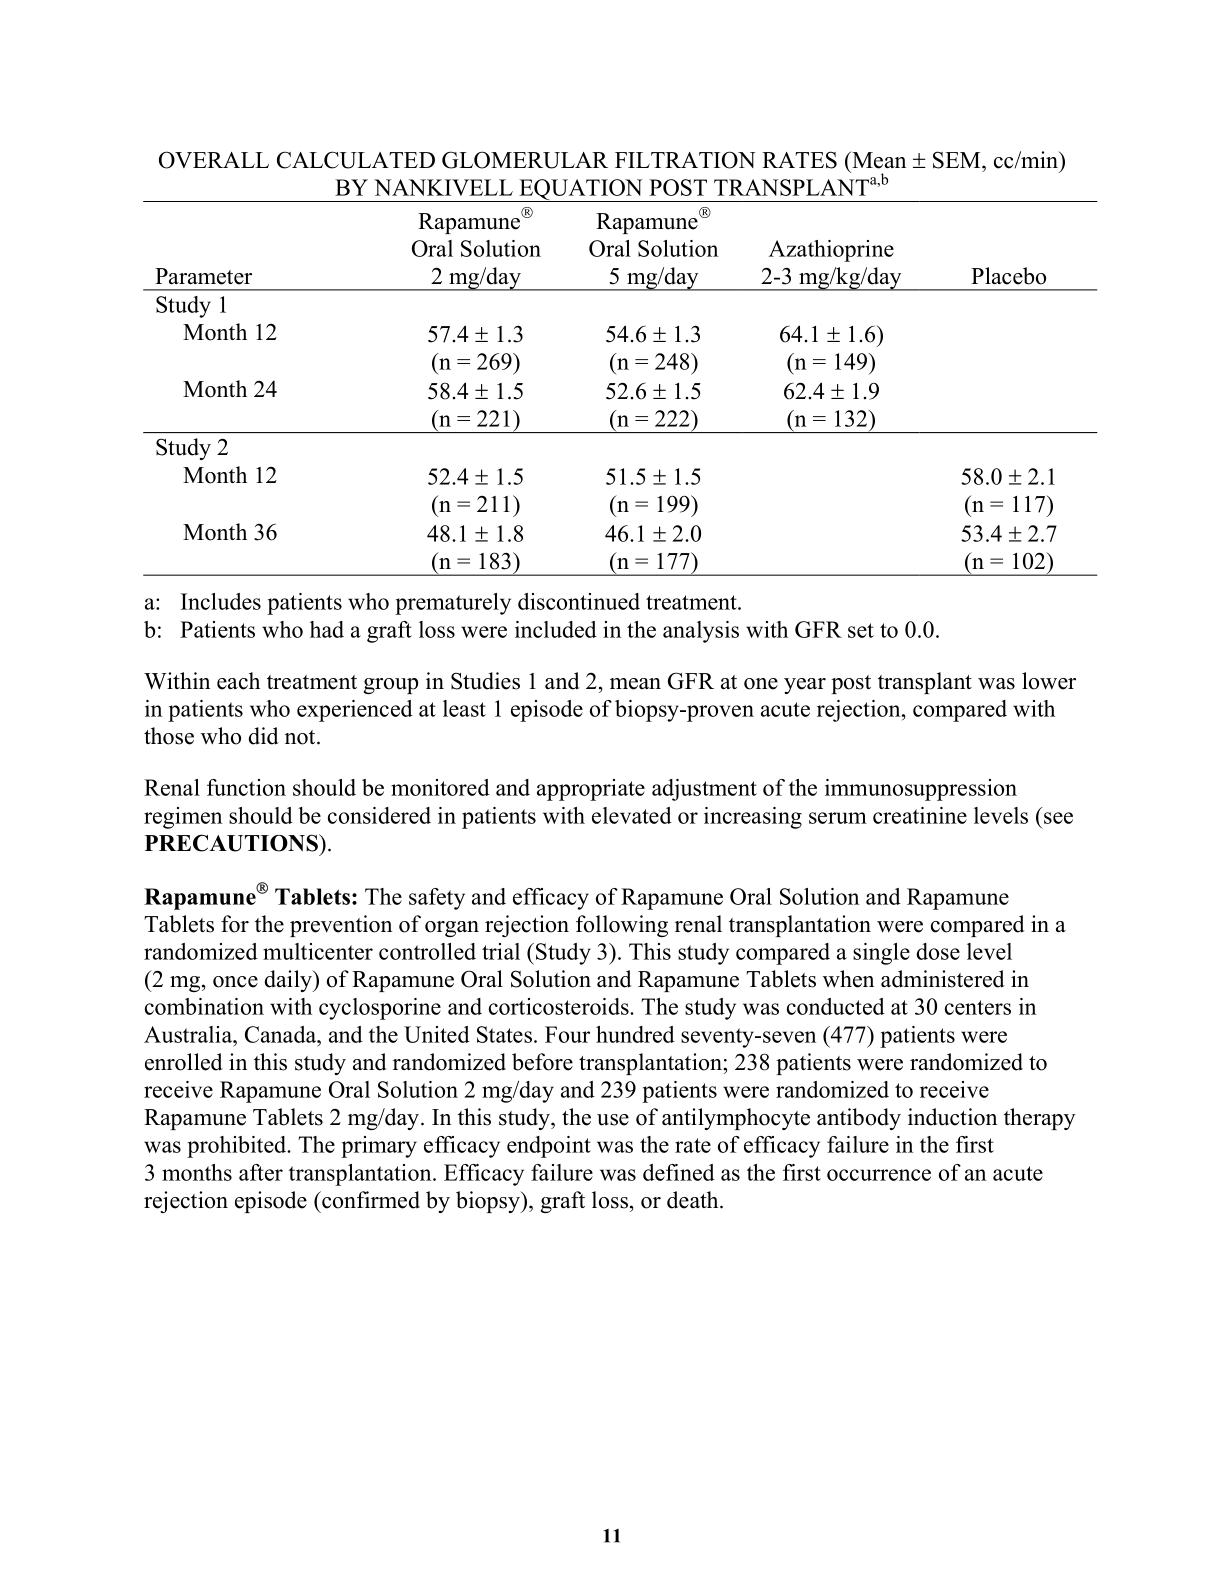partial_lined: (143, 201, 1098, 577)
